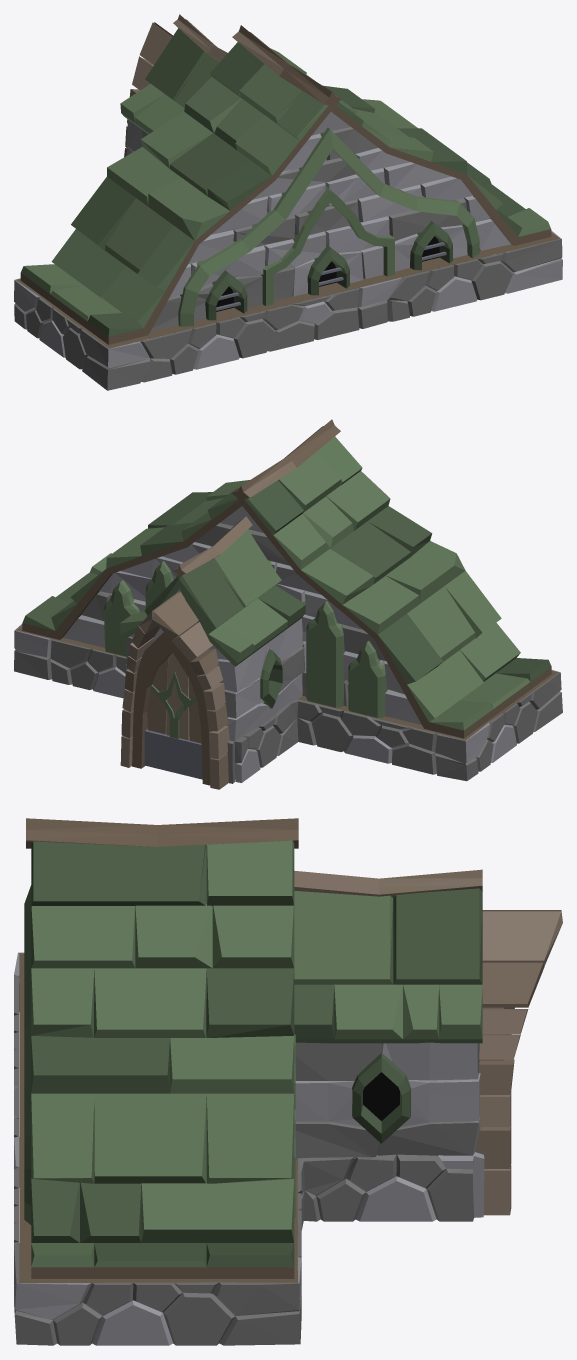
The model's file is warehouse.fbx.
3 views of the same model, one above another, from view 1: azimuth 30°, elevation 25°; view 2: azimuth 150°, elevation 25°; view 3: azimuth 270°, elevation 25° (orthographic). The views are drawn at different scales.
Parts seen in each view (by area): view 1: prison; view 2: prison; view 3: prison.
Part boxes in pixels (bbox=[...]): prison: bbox=[14, 14, 562, 390]; prison: bbox=[14, 419, 562, 789]; prison: bbox=[14, 818, 562, 1345].
Size of the model in its own units: 397 by 200 by 276.
